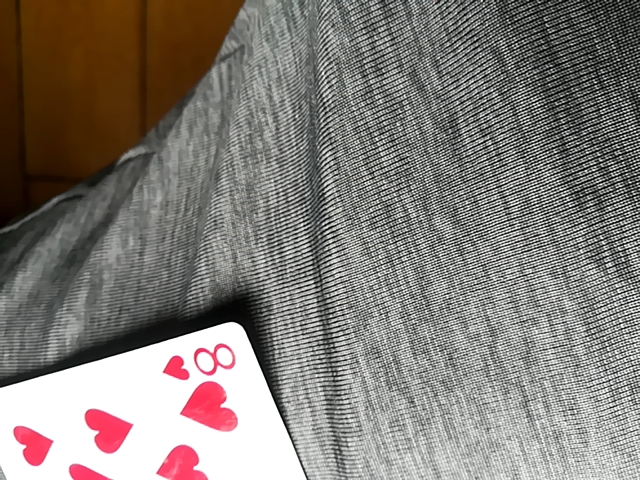hx 8: (0, 320, 313, 478)
